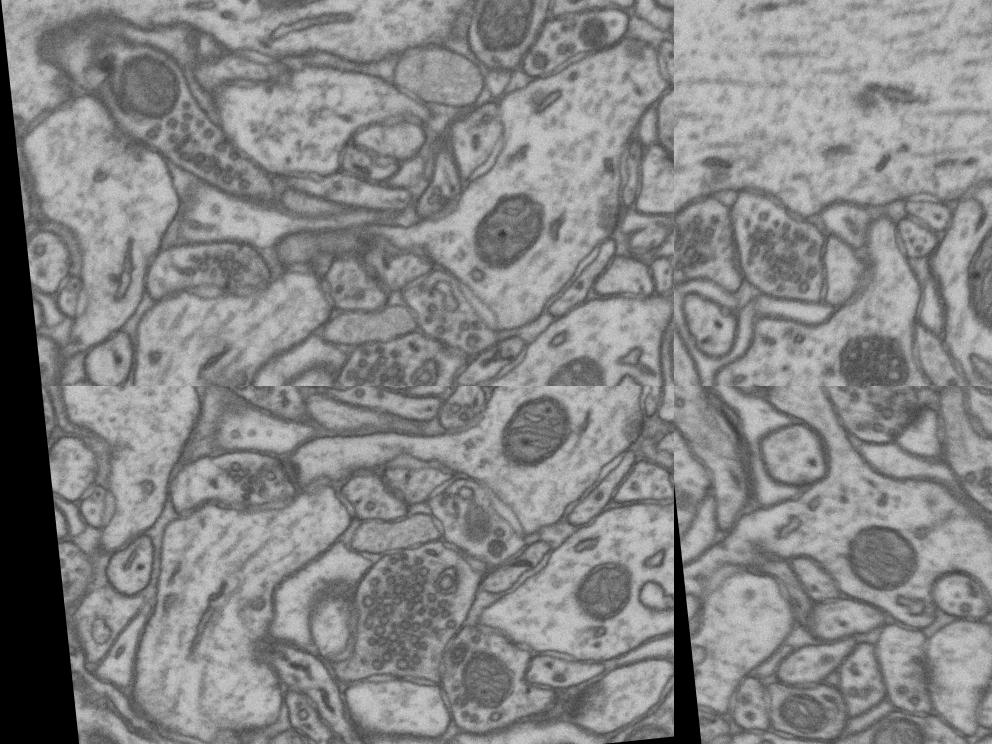mitochondria: (821, 510, 929, 608), (96, 38, 200, 134), (458, 184, 556, 284), (486, 386, 583, 479), (564, 551, 646, 635), (452, 640, 528, 722), (460, 0, 558, 62), (954, 192, 992, 326), (759, 684, 840, 744), (869, 702, 952, 744), (529, 350, 616, 386), (611, 701, 674, 742), (77, 719, 160, 744)
